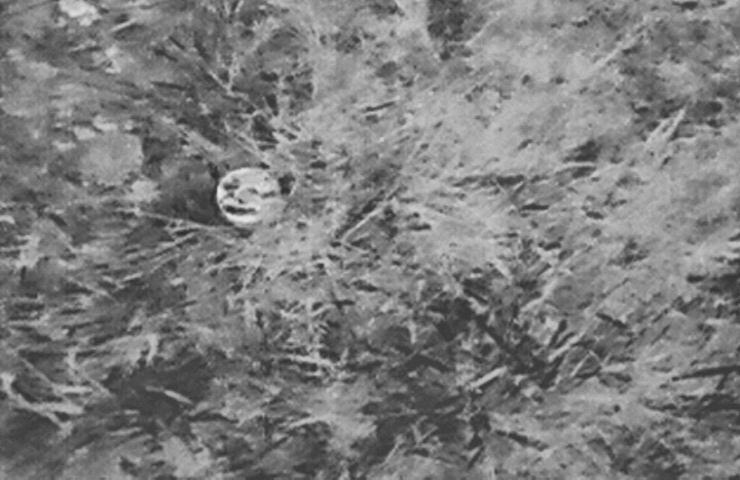landmines: (214, 163, 290, 229)
